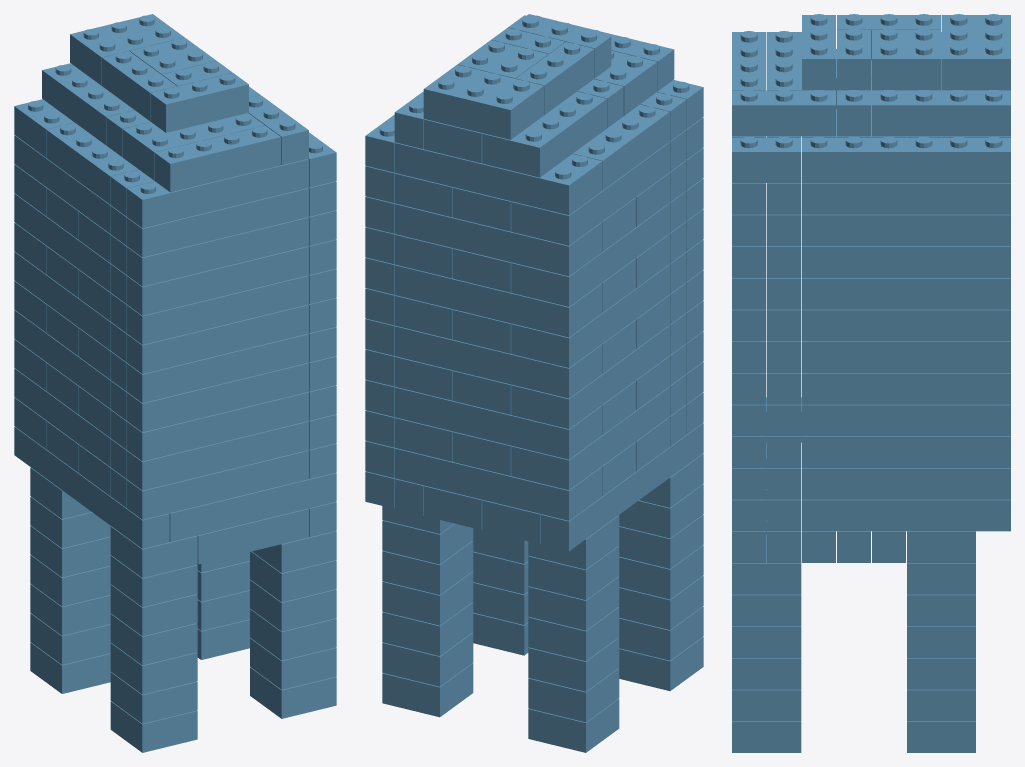
File: 254_vessel_L4.glb
3 renders of one model, left to right at view 1: azimuth 30°, elevation 25°; view 2: azimuth 150°, elevation 25°; view 3: azimuth 270°, elevation 25°, orthographic. The views are drawn at different scales.
Bounding box in the file's own units: 6.98 × 21.13 × 7.98.
